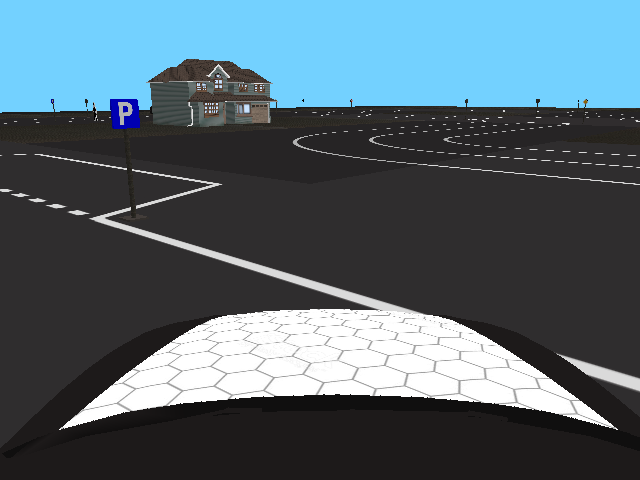parking: (109, 98, 141, 128)
